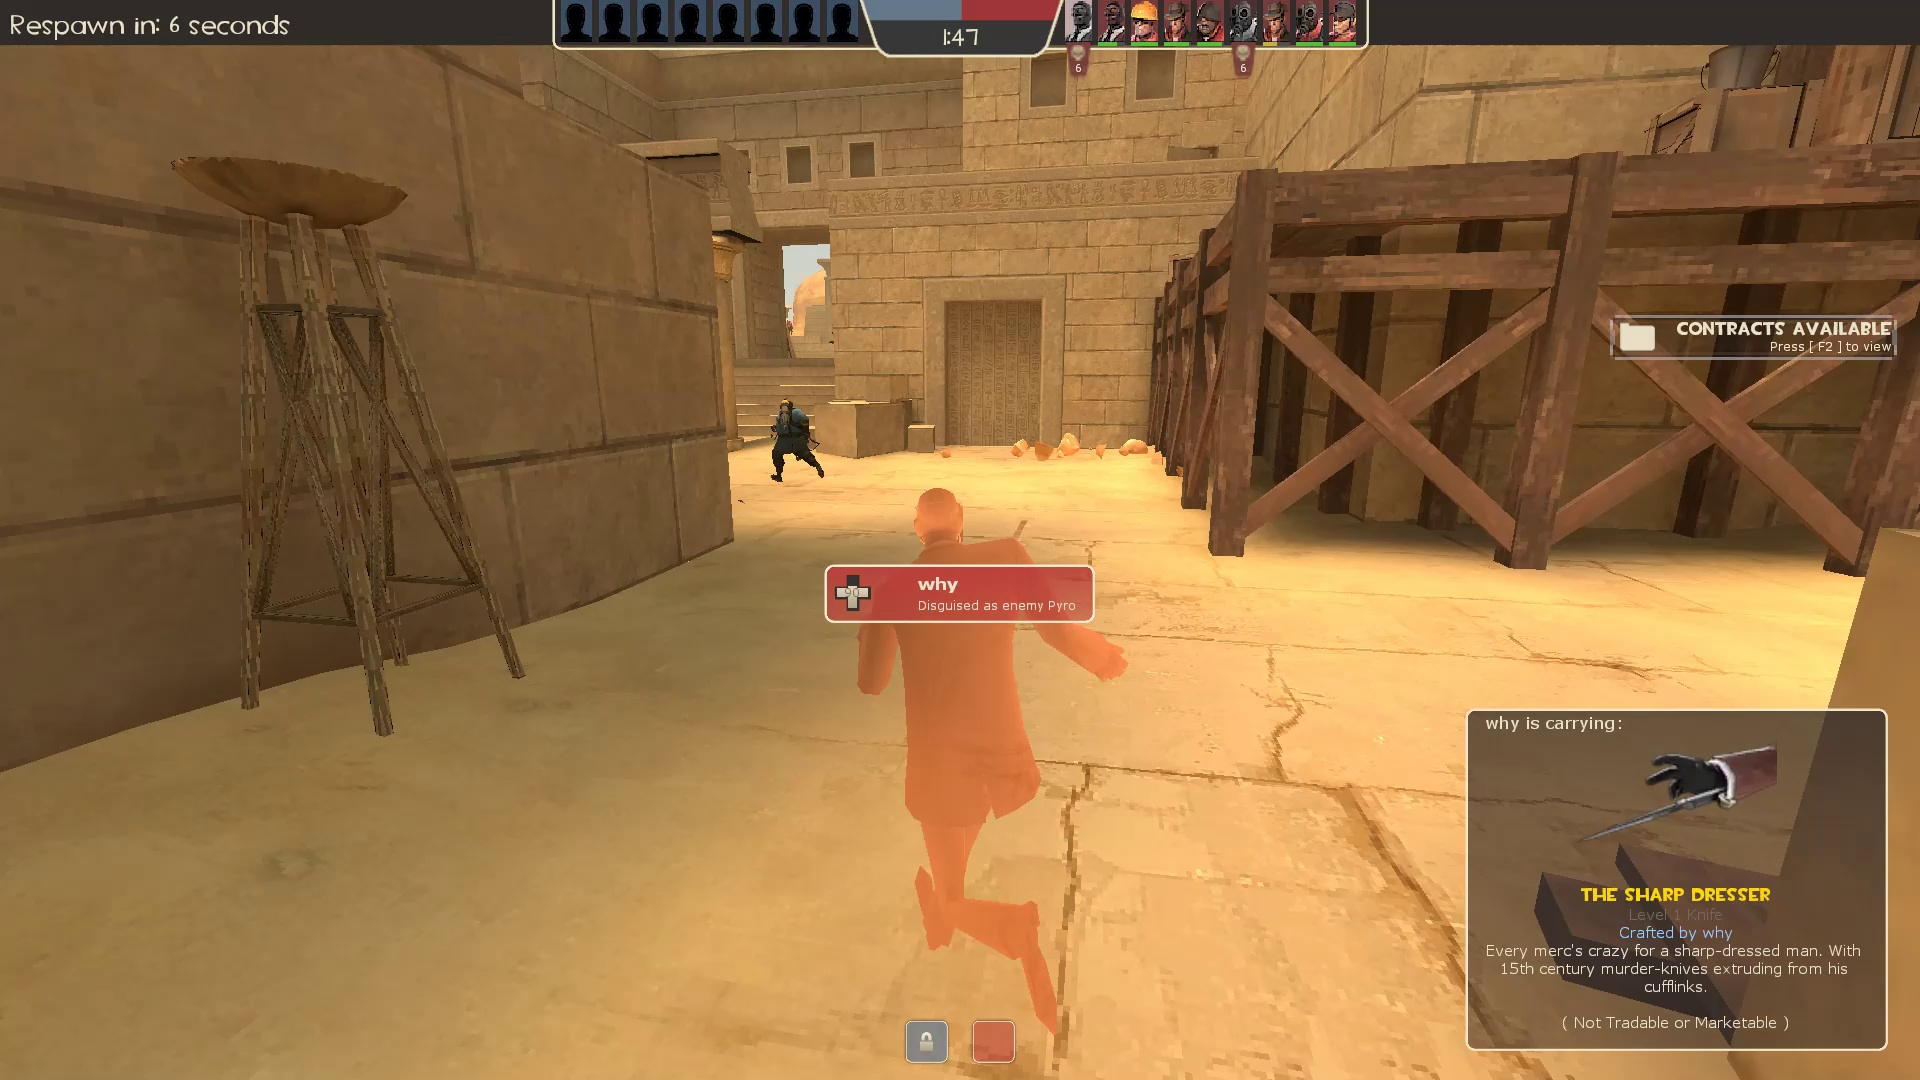blu_pyro: (765, 398, 824, 487)
red_spy_invisible: (824, 476, 1141, 1040)
